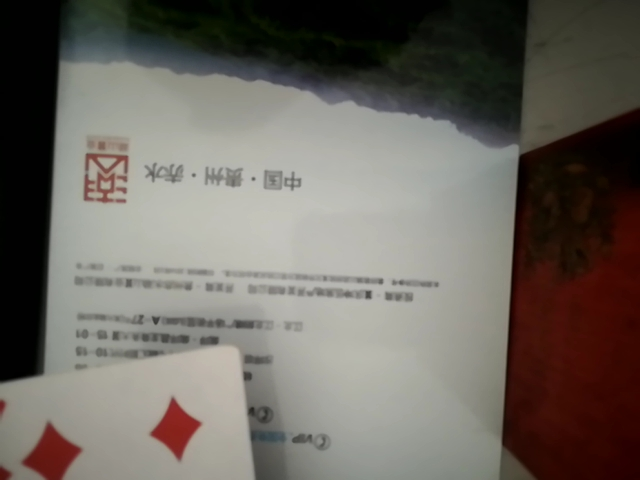fk 7: (1, 331, 279, 476)
